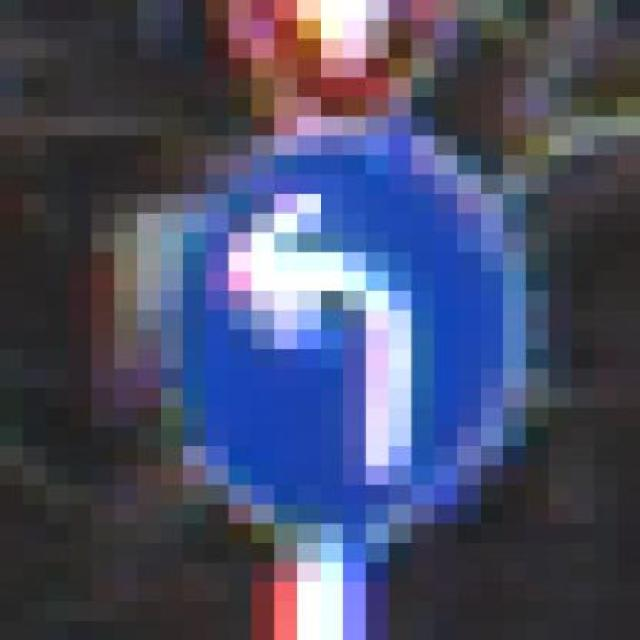Turn left ahead: (137, 135, 549, 543)
